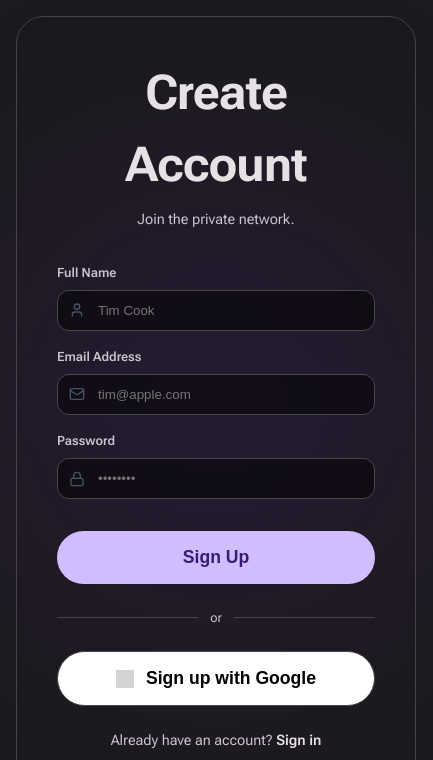
Scenario: SignUp › disables submit button while loading
The width and height of the screenshot is (433, 760).
In the field with placeholder "Tim Cook": (216, 310) top-left (57, 290), bottom-right (375, 331), type "Test User"
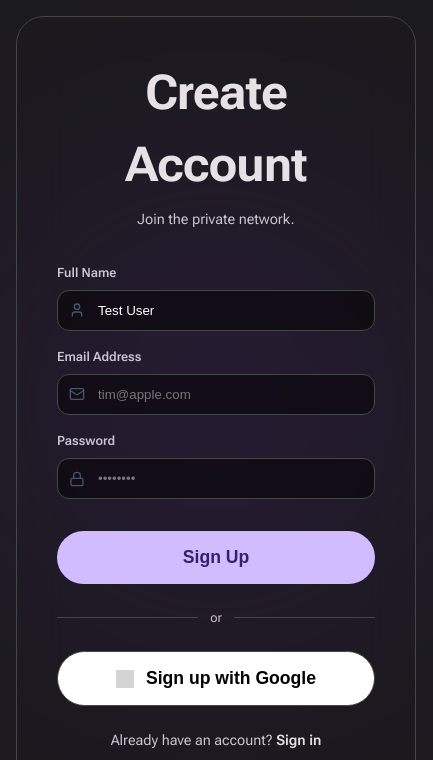
In the field with placeholder "tim@apple.com": (216, 394) top-left (57, 374), bottom-right (375, 415), type "test@test.com"
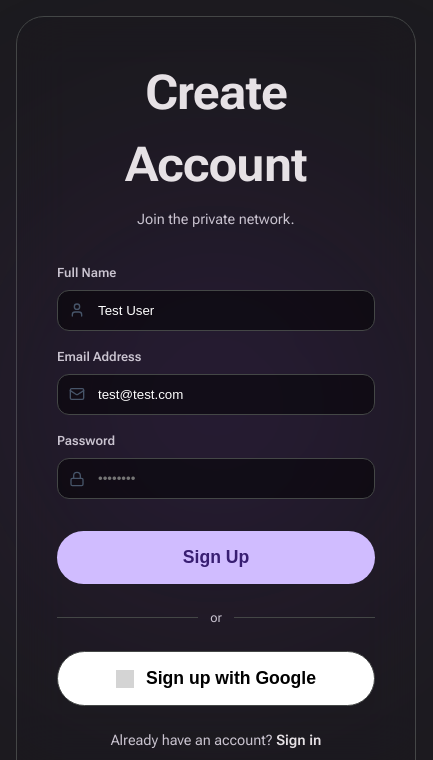
In the password field with placeholder "••••••••": (216, 479) top-left (57, 458), bottom-right (375, 499), type "password123"
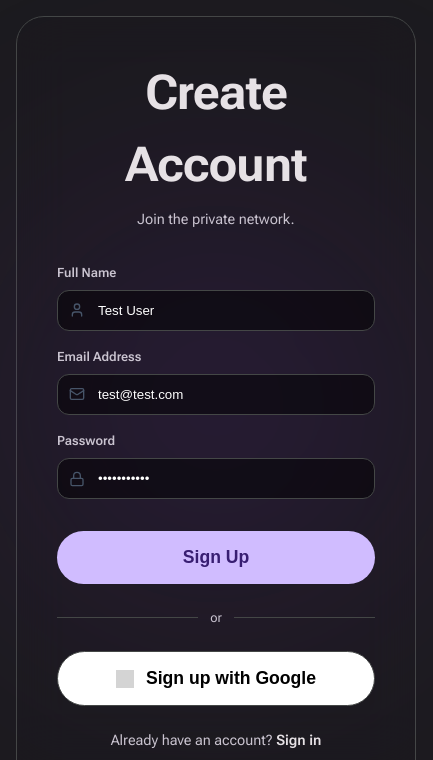
Click the button "Sign Up": click(216, 558) top-left (57, 531), bottom-right (375, 584)
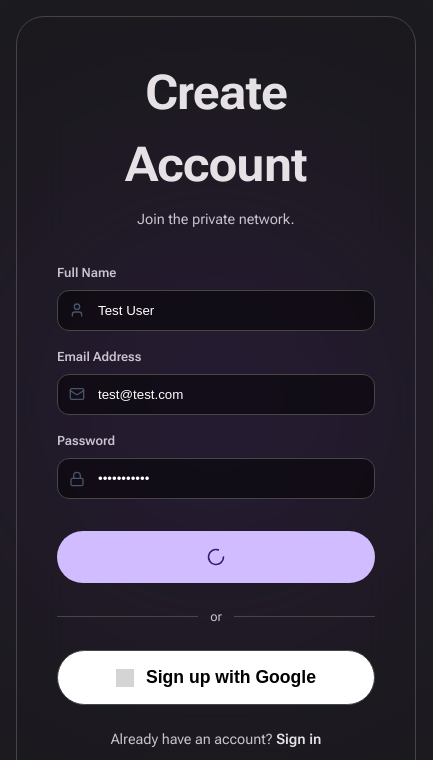
Expected: the 1st button is disabled, top-left (57, 531), bottom-right (375, 583)
